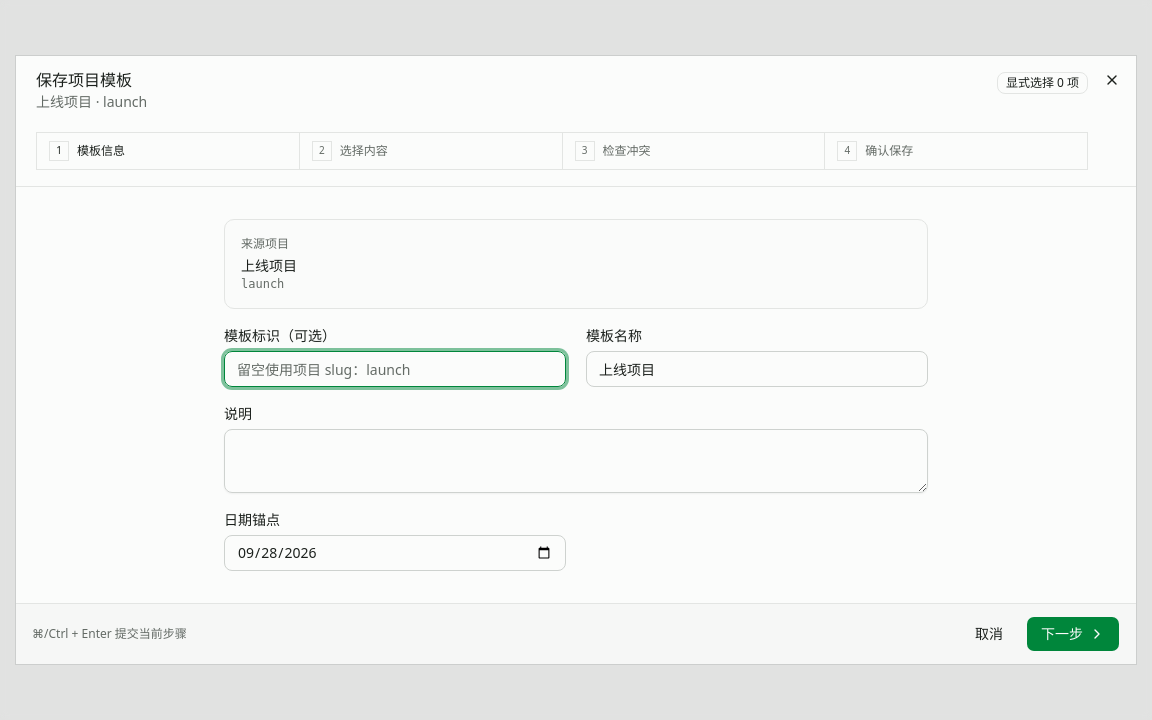
Test: ProjectTemplateCaptureWizard › allows an empty template key because the server defaults to the project slug
The image size is (1152, 720).
Click the button "下一步": (1073, 634) [1026,616,1120,652]
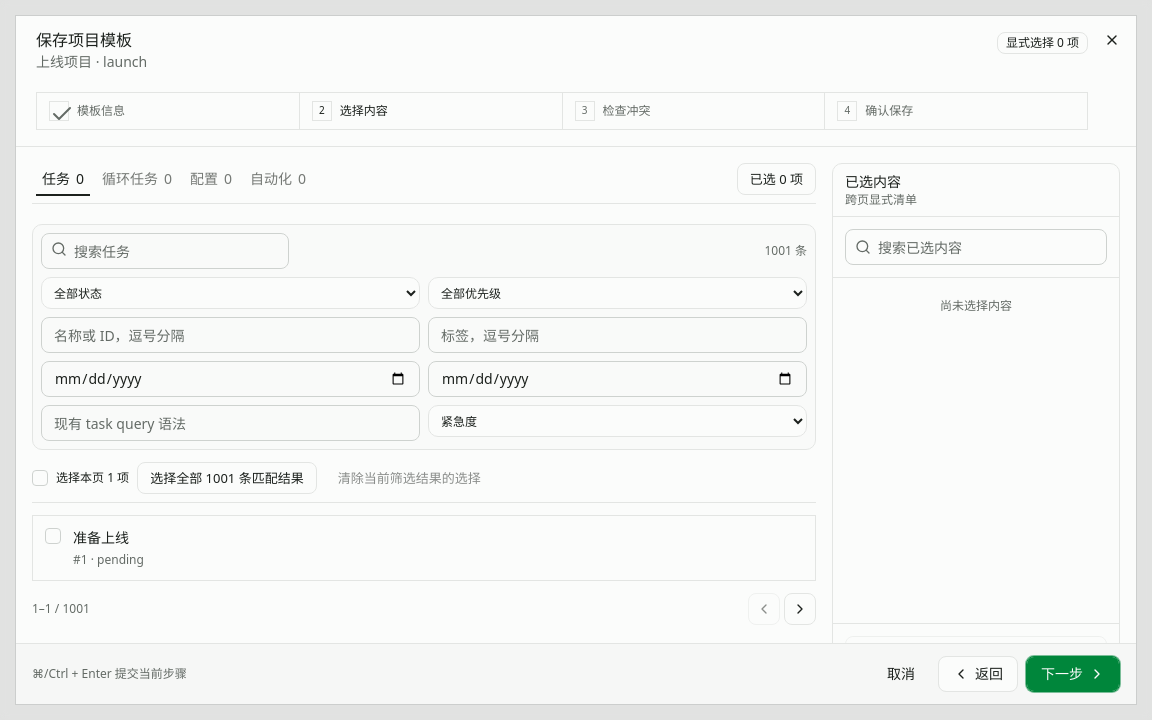
Expected: the tab "任务 0" is shown, [35,166,91,192]
